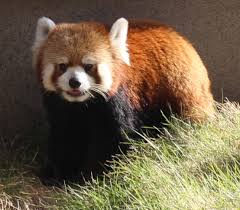redPanda: (30, 5, 222, 168)
